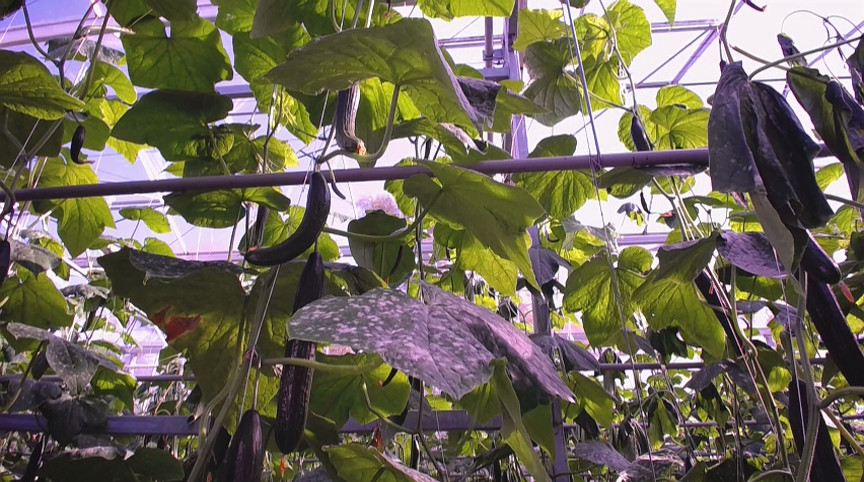cucumber: (276, 252, 327, 455), (244, 173, 329, 267), (802, 277, 864, 388), (786, 381, 845, 482), (785, 222, 842, 286), (226, 409, 267, 482), (335, 81, 364, 155)
